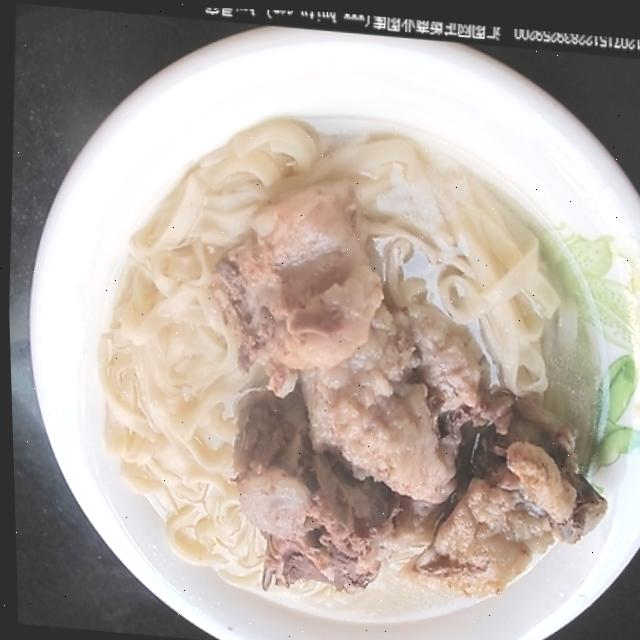面条主食: (1, 34, 640, 640)
